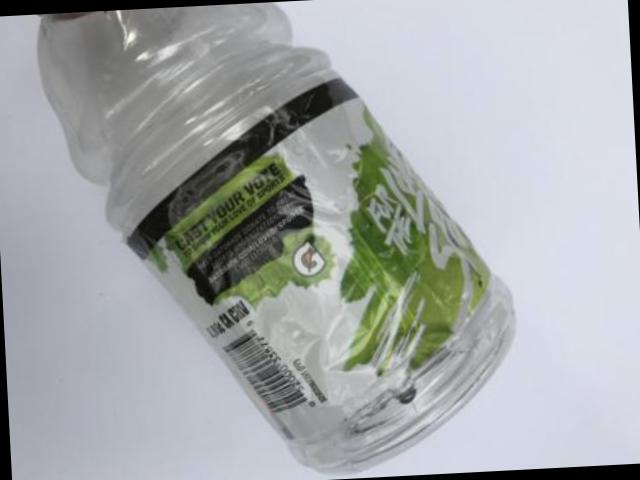plastic: (41, 2, 516, 475)
